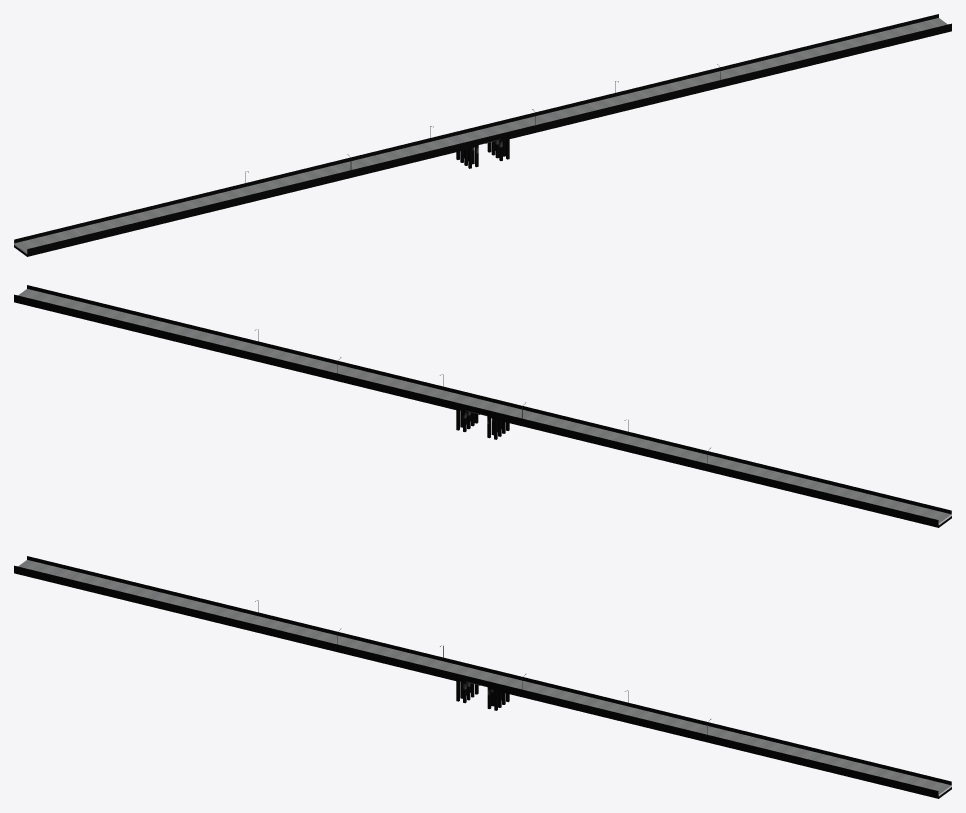
The model's file is AMB_LANDBRIDGE.glb.
3 renders of one model, top to bottom at view 1: azimuth 30°, elevation 25°; view 2: azimuth 150°, elevation 25°; view 3: azimuth 330°, elevation 25°, orthographic.
Visible parts, largest first — view 1: rikkyou00; view 2: rikkyou00; view 3: rikkyou00.
Boxes of the visible parts, <box> form: rikkyou00: <box>14,14,951,256</box>; rikkyou00: <box>14,285,951,527</box>; rikkyou00: <box>14,556,951,798</box>.
Size of the model in its own units: 2000 by 85.04 by 50.99.
Materials: 7 (7 with a texture image).
